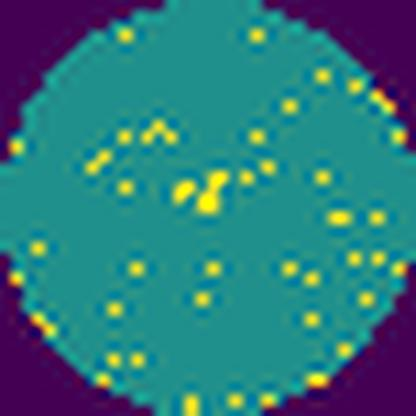Center: (170, 166, 234, 218)
